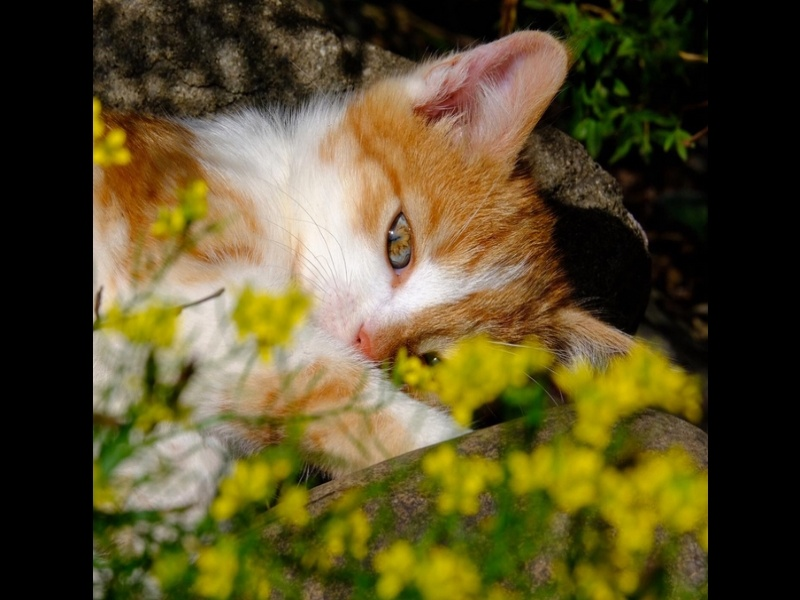cat: (96, 25, 645, 519)
